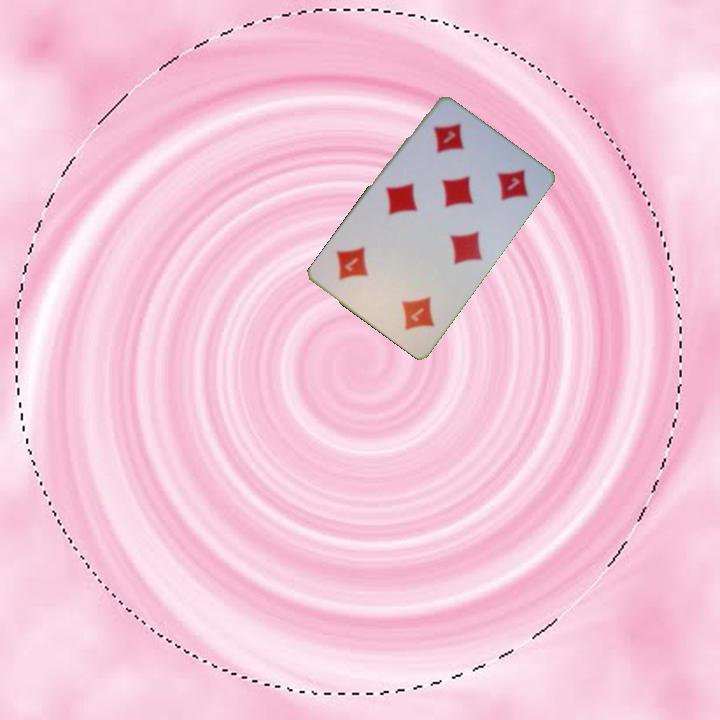d_7.png: (408, 104, 494, 188), (367, 264, 453, 348)
